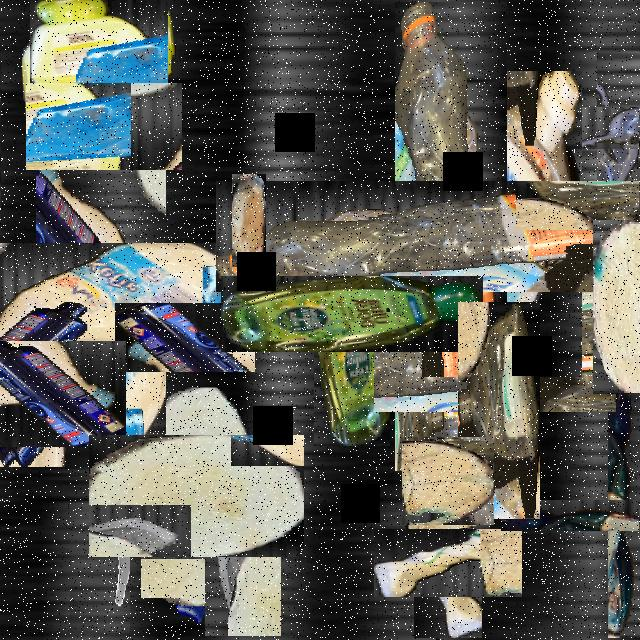glass: (43, 65, 165, 187), (205, 502, 281, 636), (153, 524, 239, 610)
metal: (70, 526, 130, 633)
plastic: (306, 91, 596, 382), (422, 71, 582, 377), (388, 210, 602, 426), (0, 197, 210, 417), (267, 230, 437, 399), (26, 0, 172, 144), (458, 302, 540, 519), (0, 331, 116, 457), (554, 446, 640, 584), (394, 509, 502, 618), (569, 79, 640, 176), (0, 38, 1, 236)
wood: (112, 411, 280, 581), (593, 220, 640, 394), (404, 439, 492, 528), (232, 174, 266, 267)
